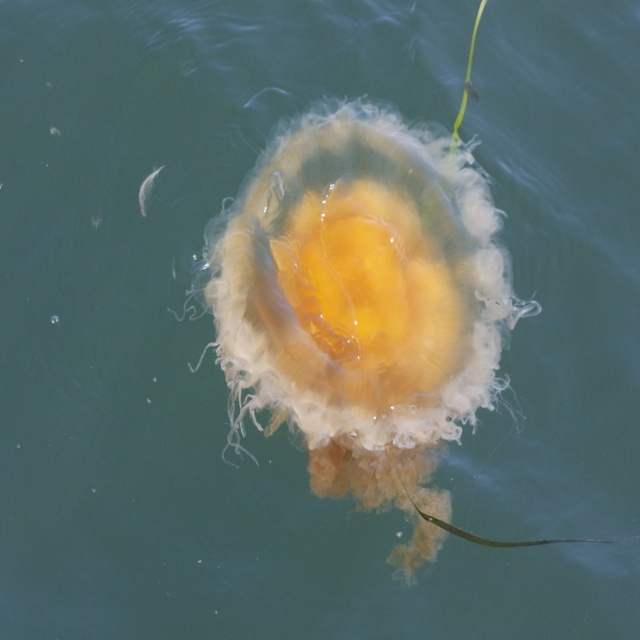Jellyfish: (167, 0, 617, 587)
